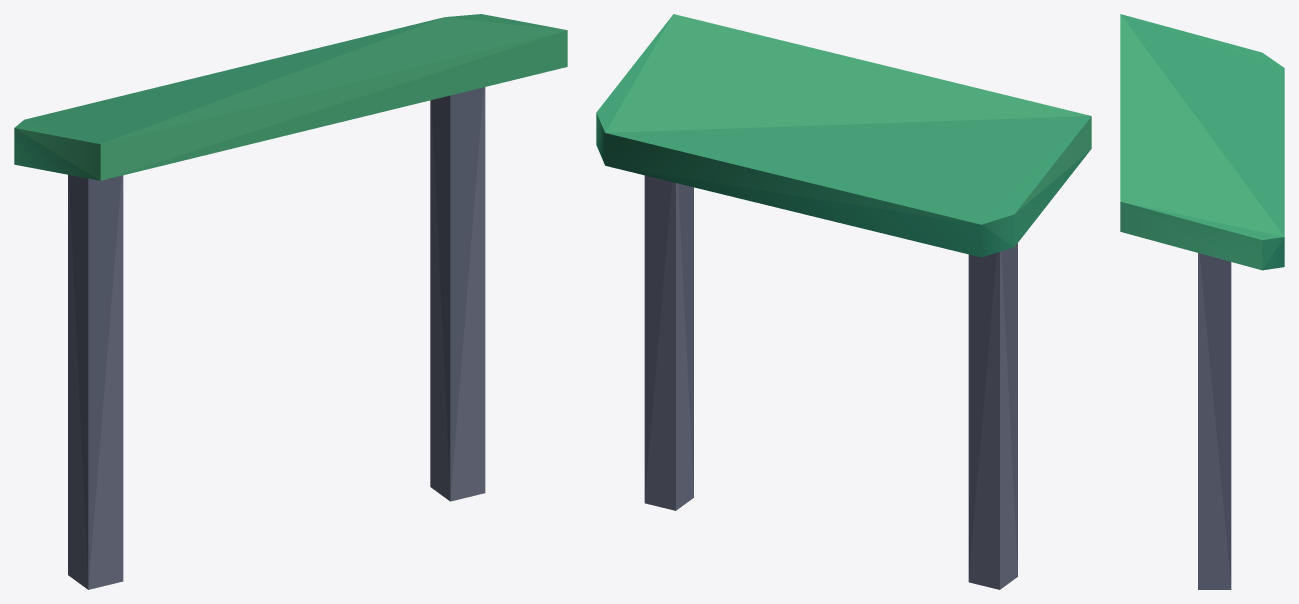
The model's file is awning.obj.
The picture shows the model from 3 angles, left to right: view 1: azimuth 30°, elevation 25°; view 2: azimuth 150°, elevation 25°; view 3: azimuth 270°, elevation 25°; orthographic projection. The views are drawn at different scales.
Bounding box in the file's own units: 0.4 × 0.4 × 0.1479.
